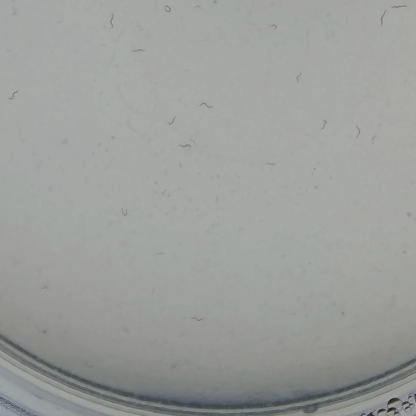worm: (257, 153, 294, 172), (187, 0, 228, 16), (152, 1, 176, 22), (162, 109, 180, 136), (370, 123, 387, 151), (292, 63, 309, 90), (103, 8, 119, 36), (261, 18, 287, 35), (194, 98, 216, 118), (374, 6, 390, 33), (124, 44, 151, 59), (108, 207, 135, 222), (1, 87, 23, 104), (172, 139, 194, 155), (353, 116, 363, 149), (186, 313, 208, 328), (387, 0, 414, 10), (154, 244, 171, 259), (313, 117, 333, 128)
